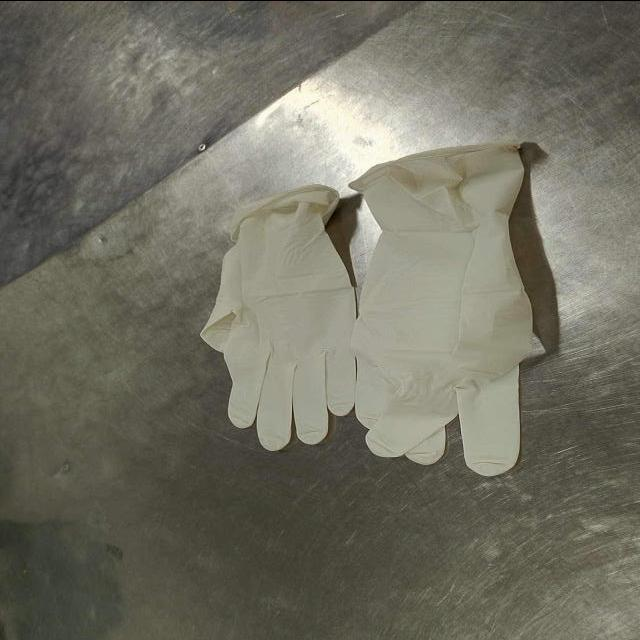General: (198, 139, 549, 478)
Infectious: (198, 184, 358, 452)
